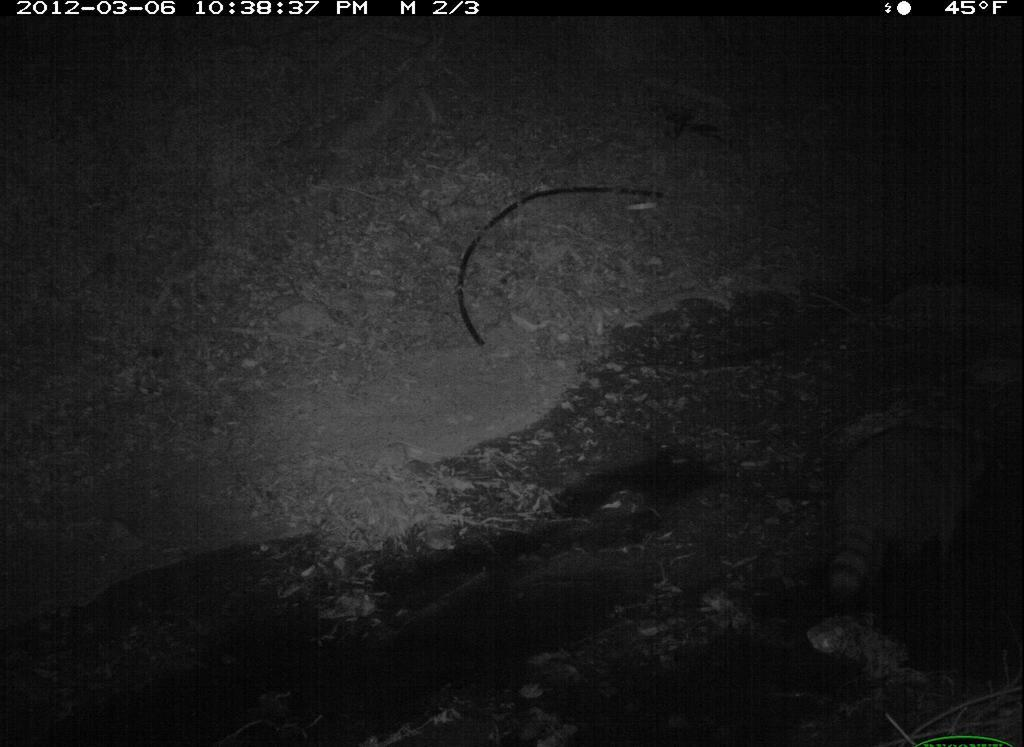raccoon: (820, 409, 1021, 612)
